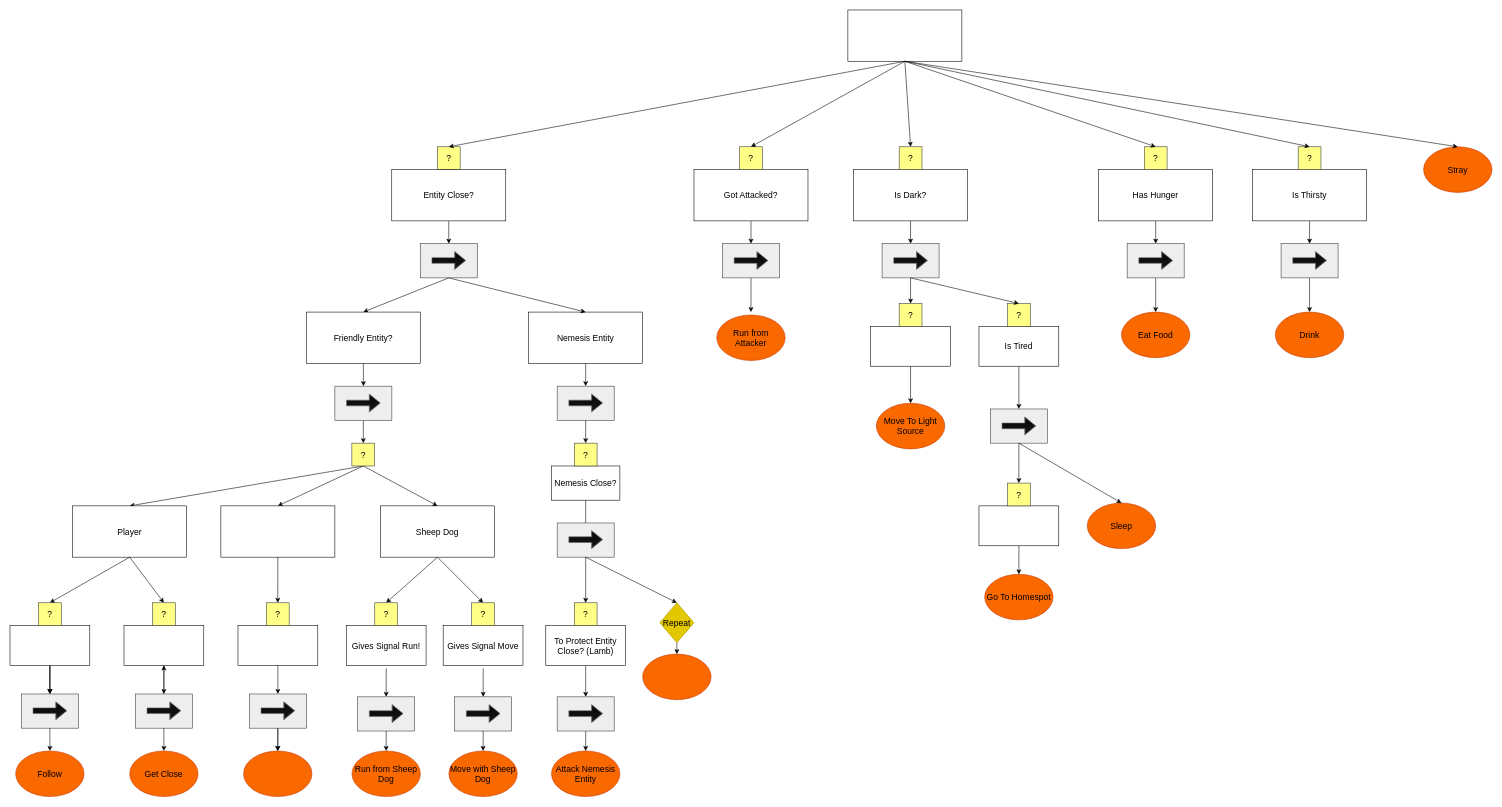
Some shapes in this 1502 by 807 pixel diagram are drawn without their labels. The centre of each missing label's shape, as x and y in pixels:
"Entity Is Thirsty?" belongs at (x=277, y=645).
"Give Milk" belongs at (x=277, y=773).
"Holds Lure Item?" belongs at (x=49, y=645).
"Holds Shears?" belongs at (x=163, y=645).
"Home reachable?" belongs at (x=1018, y=525).
"Intelligent Sheep" belongs at (x=904, y=35).
"Lamb" belongs at (x=277, y=531).
"Run from Nemesis" belongs at (x=676, y=677).
"Sees Light Source" belongs at (x=910, y=346).
